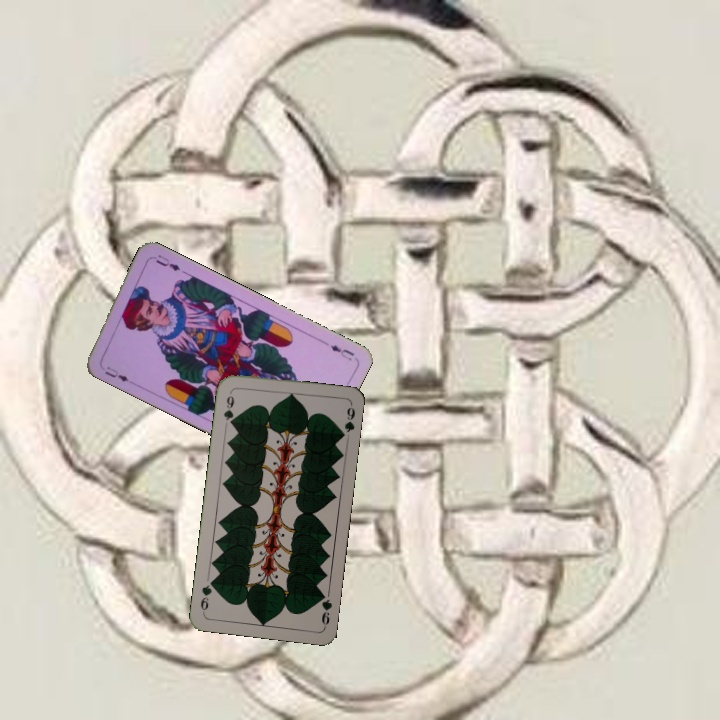EU: (326, 340, 357, 363), (101, 362, 131, 384)
G9: (316, 588, 335, 629), (220, 392, 237, 428)
